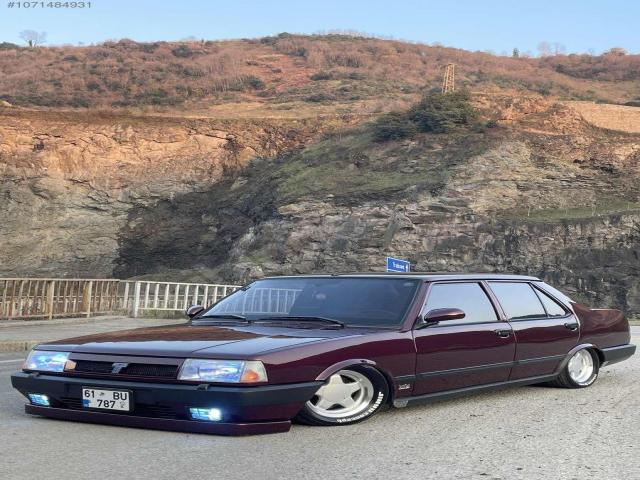plaka: (82, 389, 131, 411)
